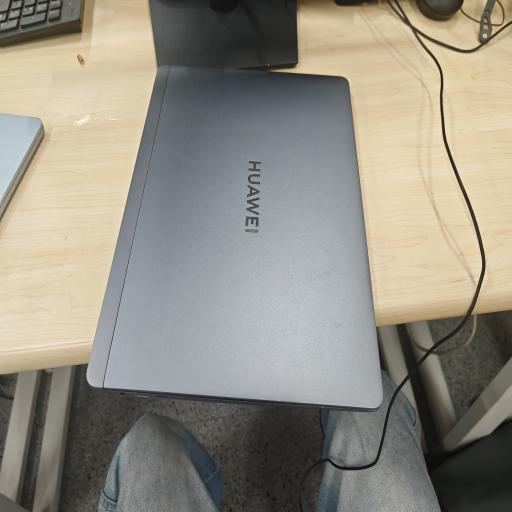laptop: (87, 66, 382, 410), (0, 112, 44, 215)
mouse: (416, 0, 463, 20)
